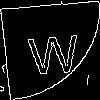W: (25, 25, 82, 76)
